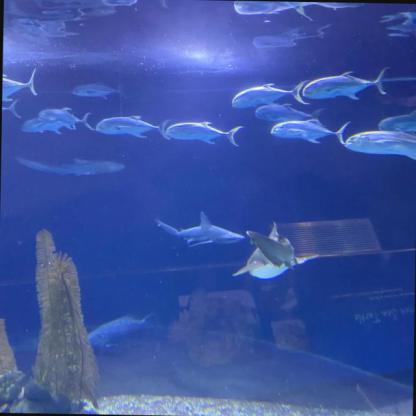fish: (302, 64, 388, 102), (86, 310, 160, 350), (232, 78, 309, 110), (344, 130, 416, 162), (164, 121, 244, 147), (270, 120, 350, 144), (96, 114, 169, 139), (38, 107, 96, 130), (2, 66, 36, 102), (378, 108, 416, 136), (254, 106, 324, 121), (72, 82, 126, 100), (21, 118, 75, 135), (2, 99, 20, 118)
shark: (233, 220, 318, 280), (156, 210, 246, 248), (16, 156, 123, 177)
